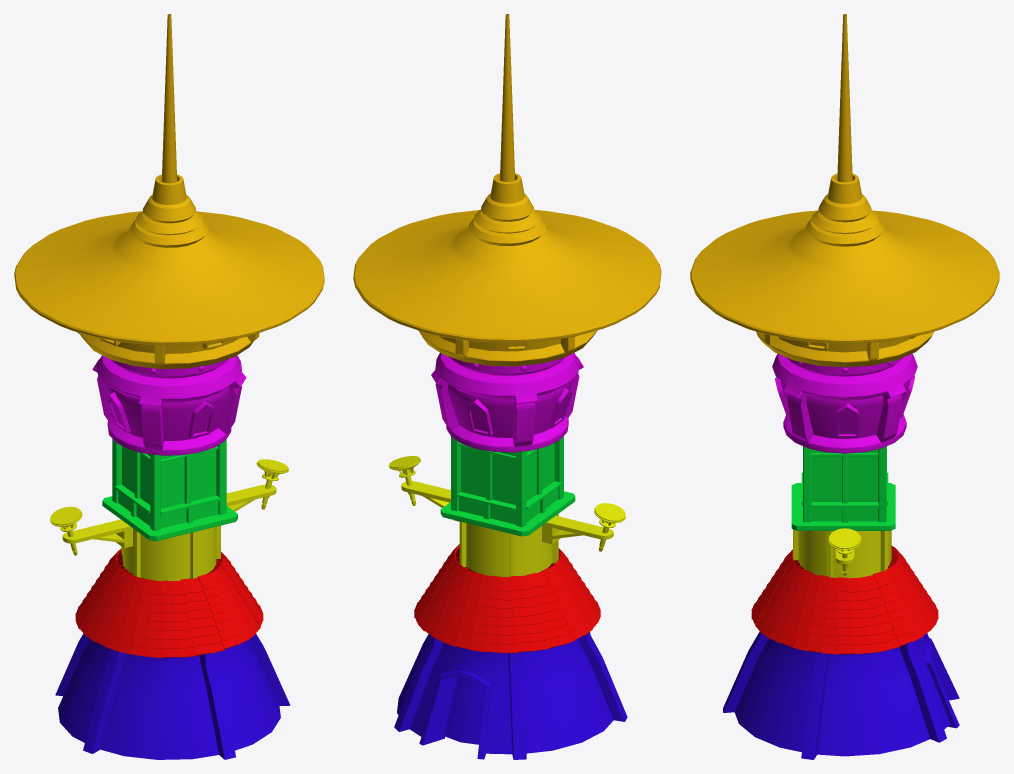
Rendered from Tour02.fbx.
3 views of the same model, side by side, from view 1: azimuth 30°, elevation 25°; view 2: azimuth 150°, elevation 25°; view 3: azimuth 270°, elevation 25° (orthographic).
Parts seen in each view (by area): view 1: pCylinder9, pCylinder1, pCube75, pCylinder6, pCube8, pCylinder3, pCylinder7, pCube30, pCube17, pCylinder17, pCube29, pCube24 (+2 smaller); view 2: pCylinder9, pCylinder1, pCube75, pCylinder6, pCube8, pCylinder3, pCylinder7, pCylinder14, pCube30, pCylinder17, pCube23, pCube29 (+3 smaller); view 3: pCylinder9, pCylinder1, pCube75, pCylinder6, pCube8, pCylinder3, pCylinder7, pCube22, pCylinder17, pCylinder14, pCube29, pCylinder8 (+1 smaller).
Boxes of the visible parts, box(x1,y1,x2,y2) form: pCylinder9: box(14, 174, 324, 345); pCylinder1: box(55, 633, 290, 759); pCube75: box(75, 548, 263, 657); pCylinder6: box(92, 355, 246, 455); pCube8: box(102, 439, 237, 541); pCylinder3: box(121, 525, 220, 581); pCylinder7: box(77, 332, 259, 368); pCube30: box(50, 506, 132, 555); pCube17: box(160, 446, 220, 528); pCylinder17: box(161, 14, 177, 183); pCube29: box(226, 459, 288, 511); pCube24: box(114, 451, 150, 525); pCylinder9: box(353, 173, 661, 342); pCylinder1: box(394, 632, 627, 759); pCube75: box(414, 544, 600, 653); pCylinder6: box(431, 352, 583, 452); pCube8: box(440, 436, 575, 536); pCylinder3: box(459, 514, 558, 577); pCylinder7: box(419, 330, 597, 366); pCylinder14: box(419, 670, 490, 759); pCube30: box(542, 503, 625, 551); pCylinder17: box(499, 14, 515, 181); pCube23: box(456, 443, 515, 524); pCube29: box(389, 456, 459, 521); pCylinder9: box(690, 174, 999, 343); pCylinder1: box(723, 631, 950, 759); pCube75: box(751, 545, 938, 654); pCylinder6: box(772, 353, 917, 453); pCube8: box(791, 446, 895, 530); pCylinder3: box(793, 529, 891, 578); pCylinder7: box(756, 331, 933, 367); pCube22: box(811, 449, 878, 522); pCylinder17: box(837, 14, 852, 182); pCylinder14: box(925, 638, 959, 728); pCube29: box(828, 528, 861, 575); pCylinder8: box(786, 357, 903, 376).
Bounding box in the file's own units: 2613 × 6509 × 2613.
